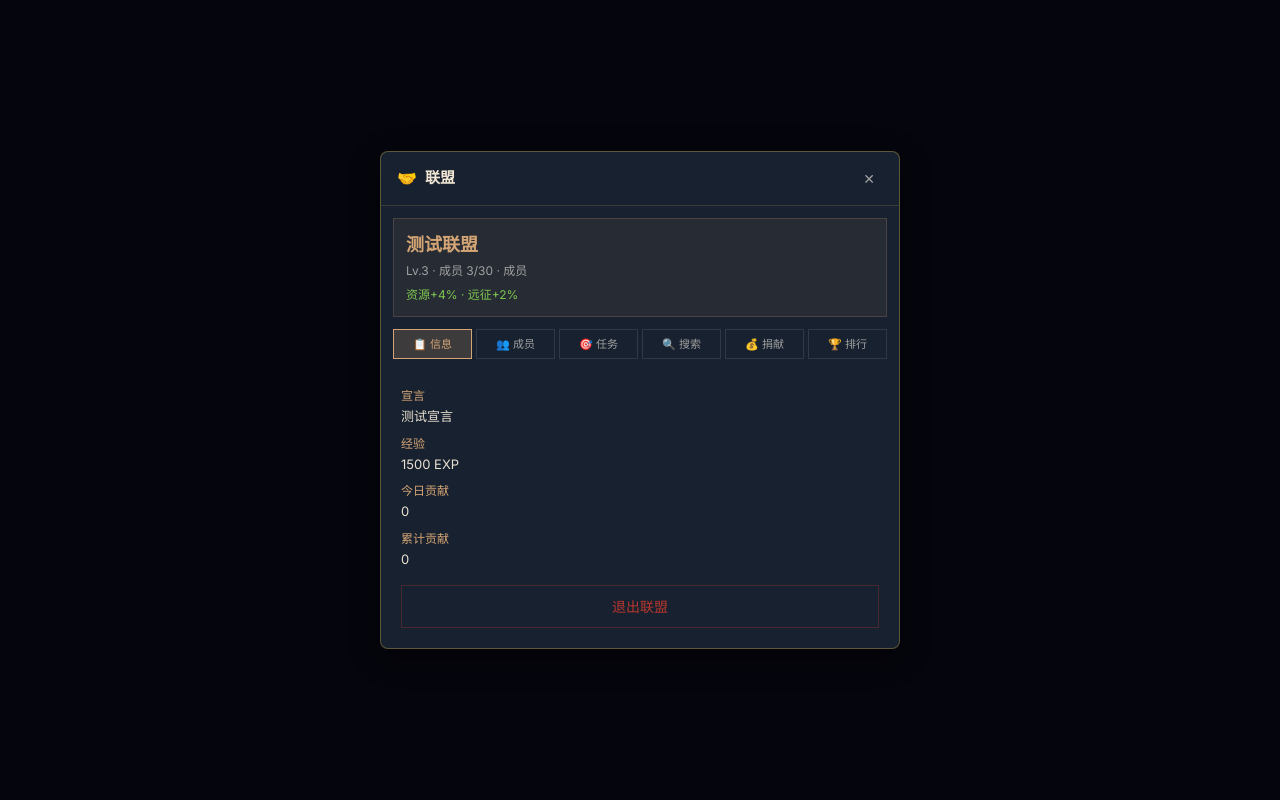
Test: F11 联盟系统 P1 修复 › P1-04 联盟排行榜Tab › 点击排行榜Tab应显示贡献排行
Click the button with test id "alliance-panel-tab-ranking" at (848, 344), box [808,329,887,359]
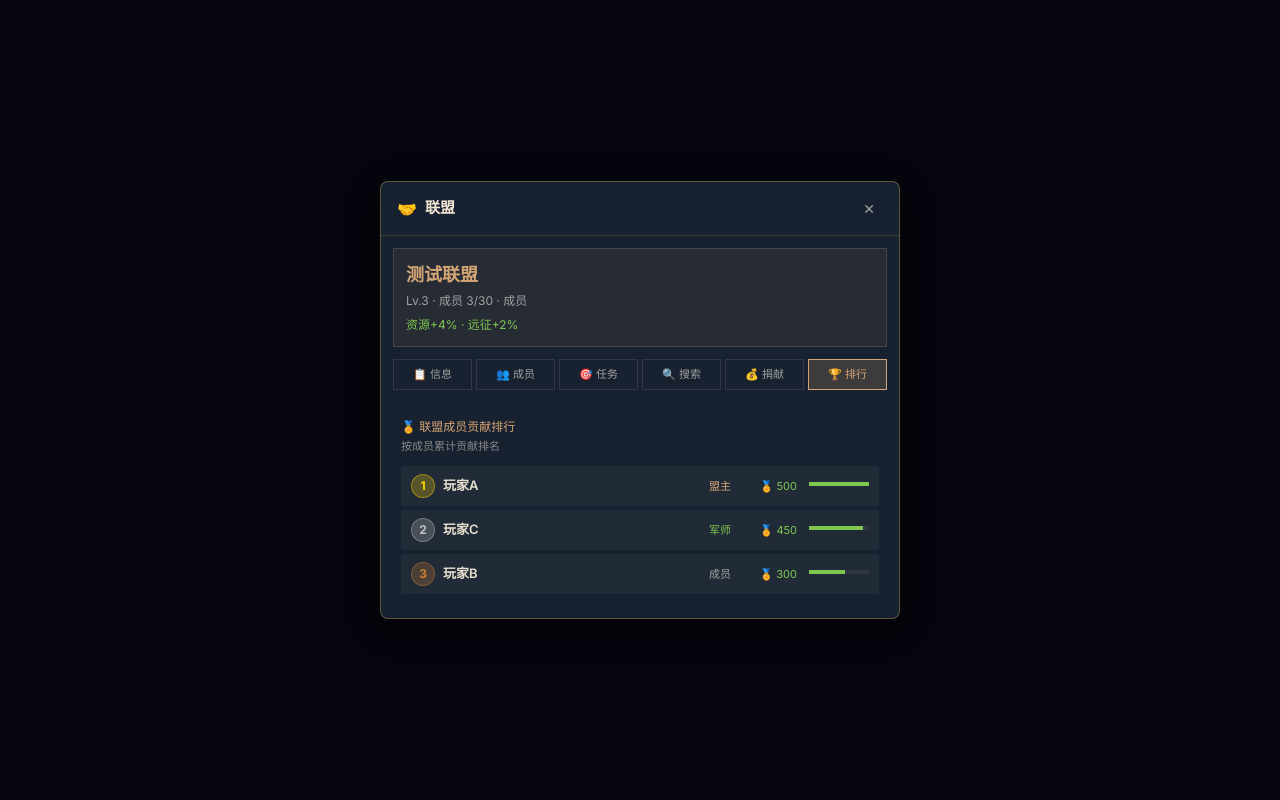
Expected: the element with test id "alliance-panel-ranking" is shown, [393,402,887,606]
Expected: the text "🏅 联盟成员贡献排行" is shown, [401,418,515,434]
